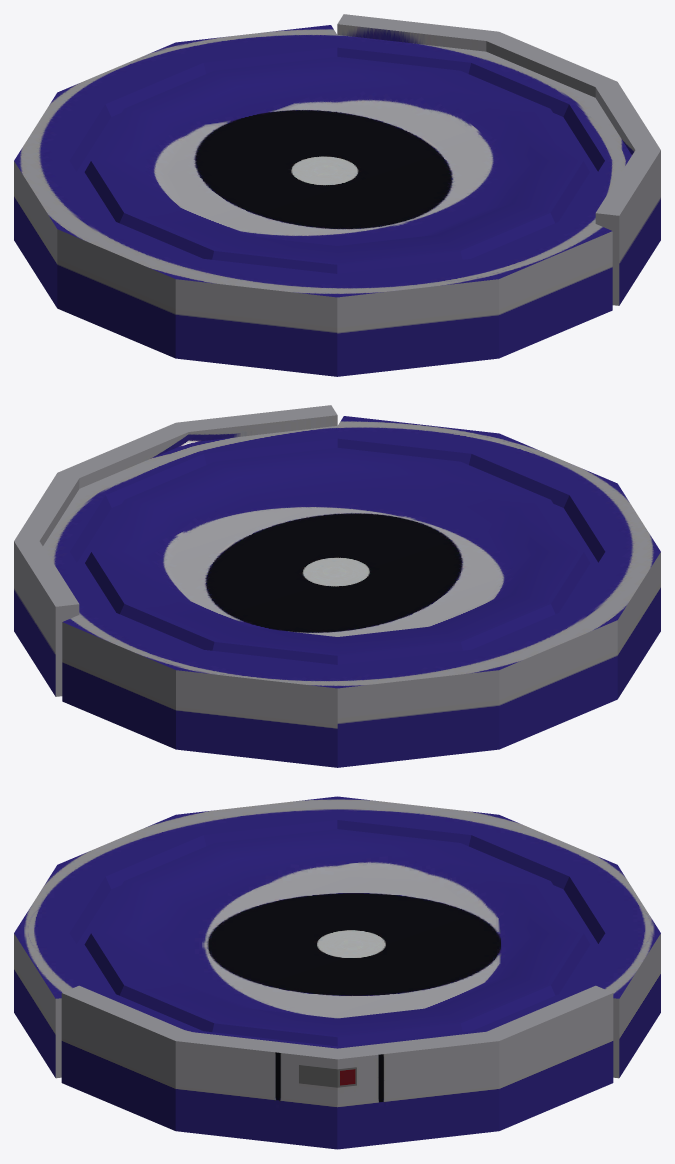
Rendered from Roomba.fbx.
3 renders of one model, top to bottom at view 1: azimuth 30°, elevation 25°; view 2: azimuth 150°, elevation 25°; view 3: azimuth 270°, elevation 25°, orthographic.
Visible parts, largest first — view 1: Roomba; view 2: Roomba; view 3: Roomba.
Part boxes in pixels (<box>): Roomba: <box>14,14,660,376</box>; Roomba: <box>14,405,660,767</box>; Roomba: <box>14,796,660,1149</box>.
Bounding box in the file's own units: 87.92 × 13.51 × 87.88.
